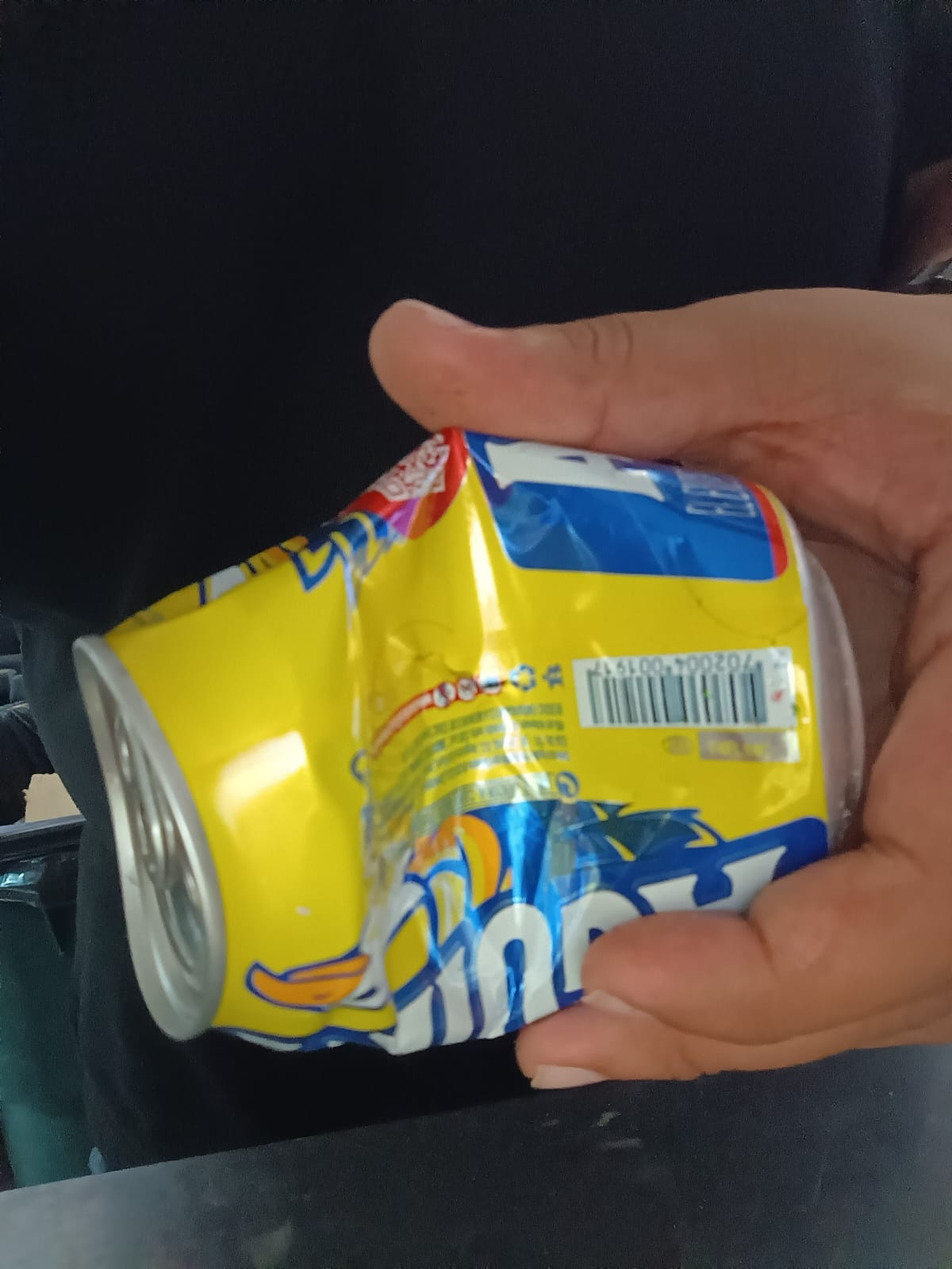Metal: (74, 439, 869, 1057)
